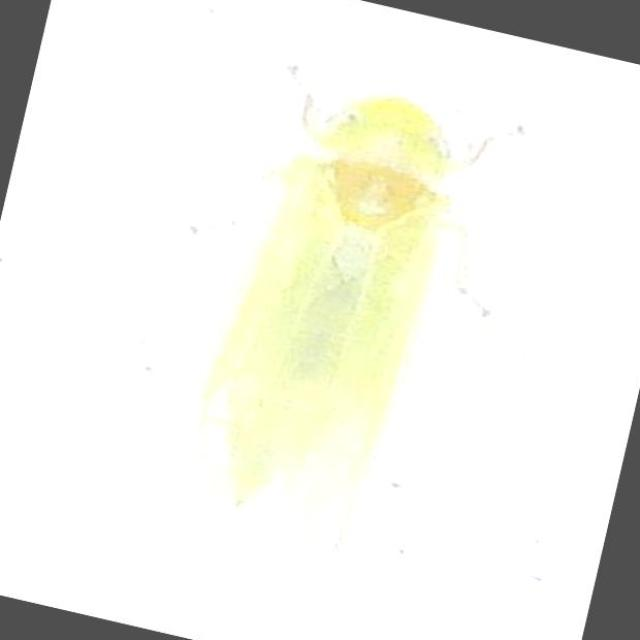green leaf hopper: (198, 66, 501, 522)
